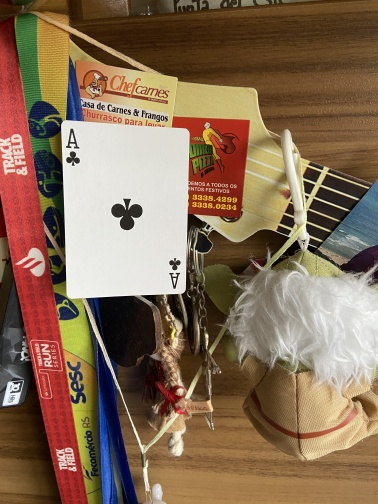ace: (59, 119, 191, 300)
